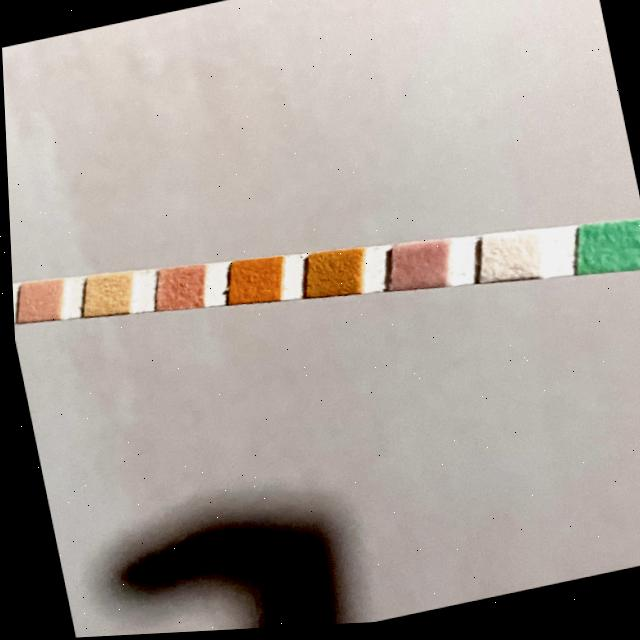Bilirubin: (478, 235, 542, 288)
Blood: (226, 260, 278, 307)
Glucose: (574, 227, 640, 280)
Ketone: (387, 244, 448, 294)
Protein: (82, 271, 129, 317)
SpGravity: (305, 253, 357, 300)
Urobilinogen: (16, 279, 60, 322)
pH: (153, 266, 203, 312)
